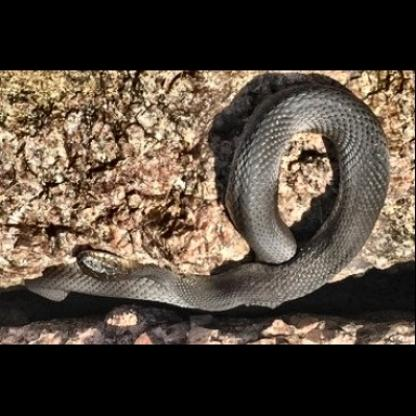Snake: (3, 92, 416, 333), (202, 82, 410, 323)
